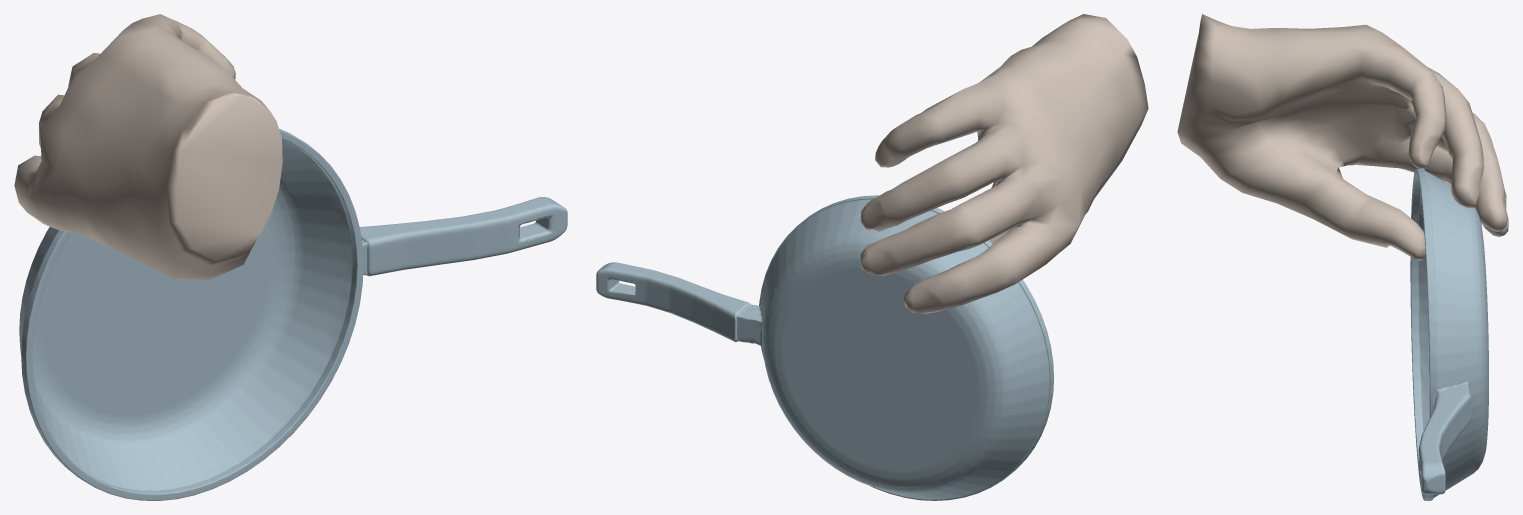
The model's file is ours_0.glb.
3 renders of one model, left to right at view 1: azimuth 30°, elevation 25°; view 2: azimuth 150°, elevation 25°; view 3: azimuth 270°, elevation 25°, orthographic. The views are drawn at different scales.
Size of the model in its own units: 0.2411 by 0.2125 by 0.1494.
